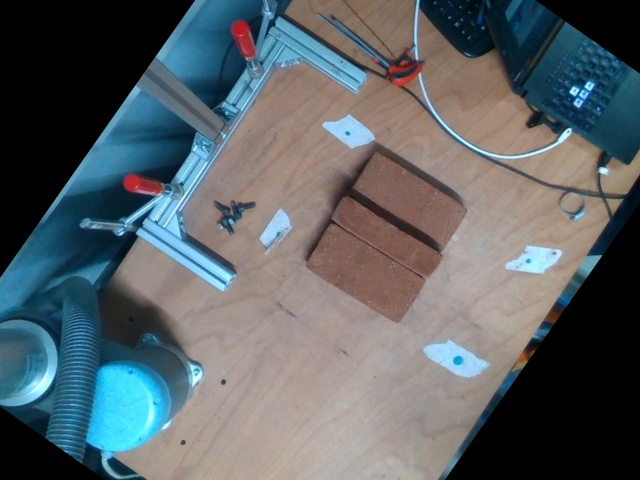brick: (306, 224, 422, 323), (350, 151, 467, 249)
brick-side: (330, 194, 442, 277)
